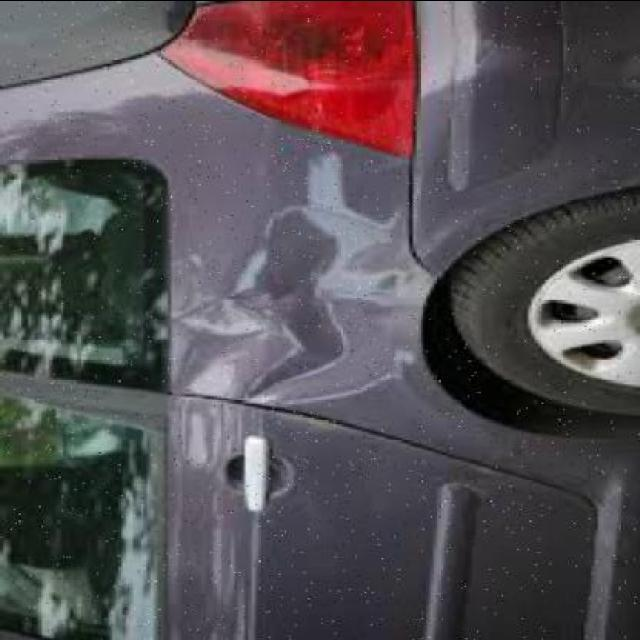quaterpanel-dent: (157, 92, 521, 406)
